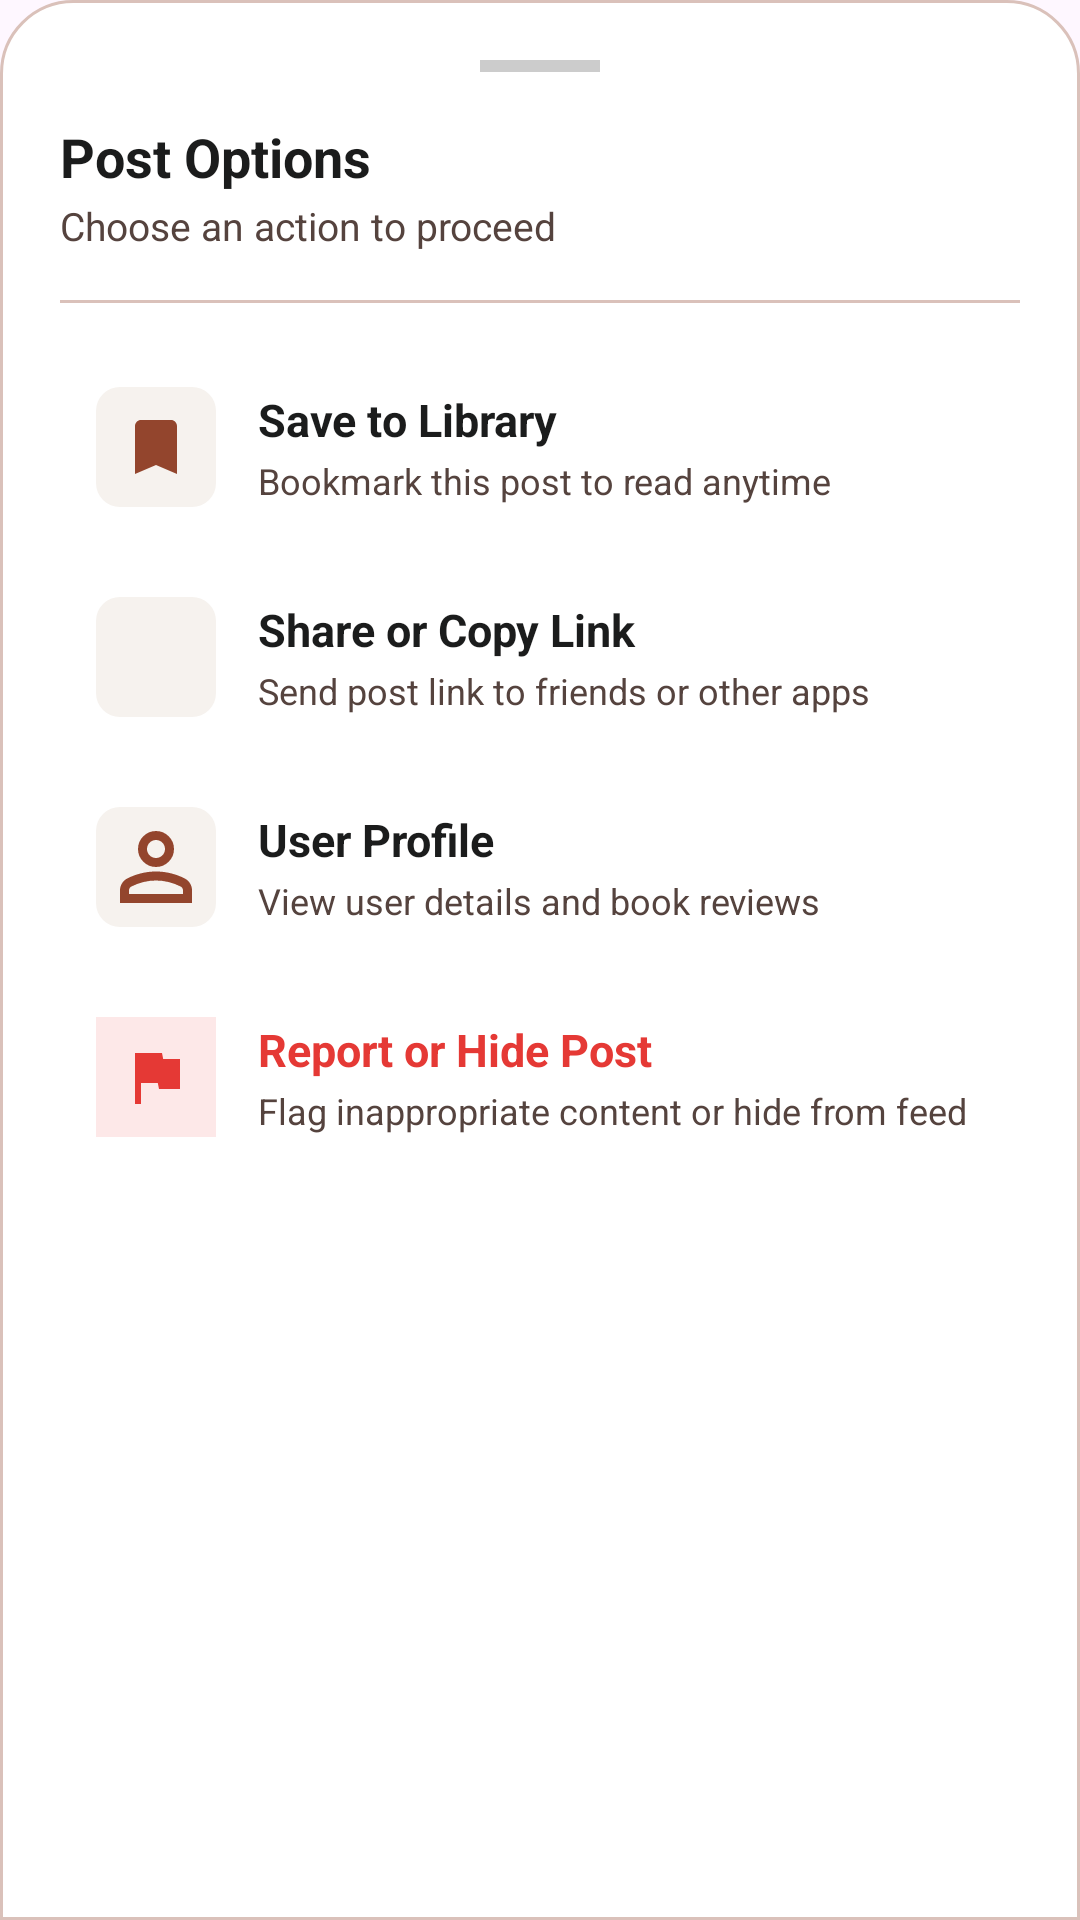

Named icons in this screenshot (1080x1920) and their bounding boxes, (x1, y1, x2, y2):
flag report: (135, 1053, 180, 1104)
